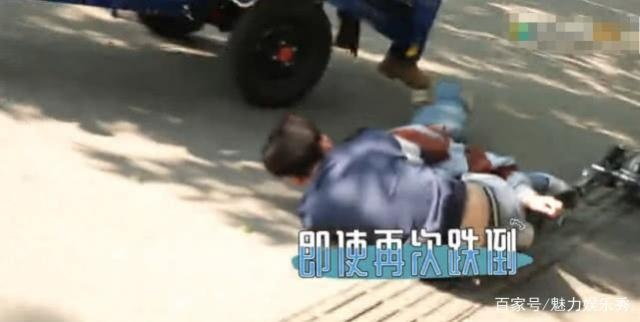falling: (249, 84, 593, 271)
